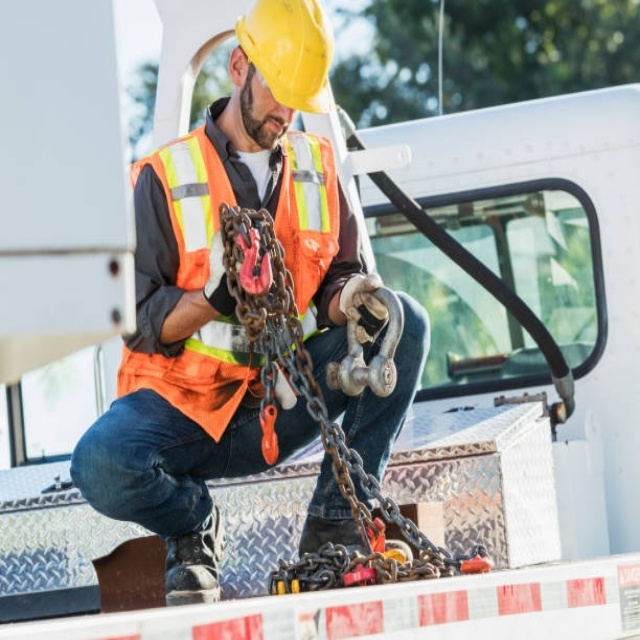Guantes: (334, 266, 391, 341), (189, 224, 230, 322)
Sin_mascara: (254, 109, 293, 146)
